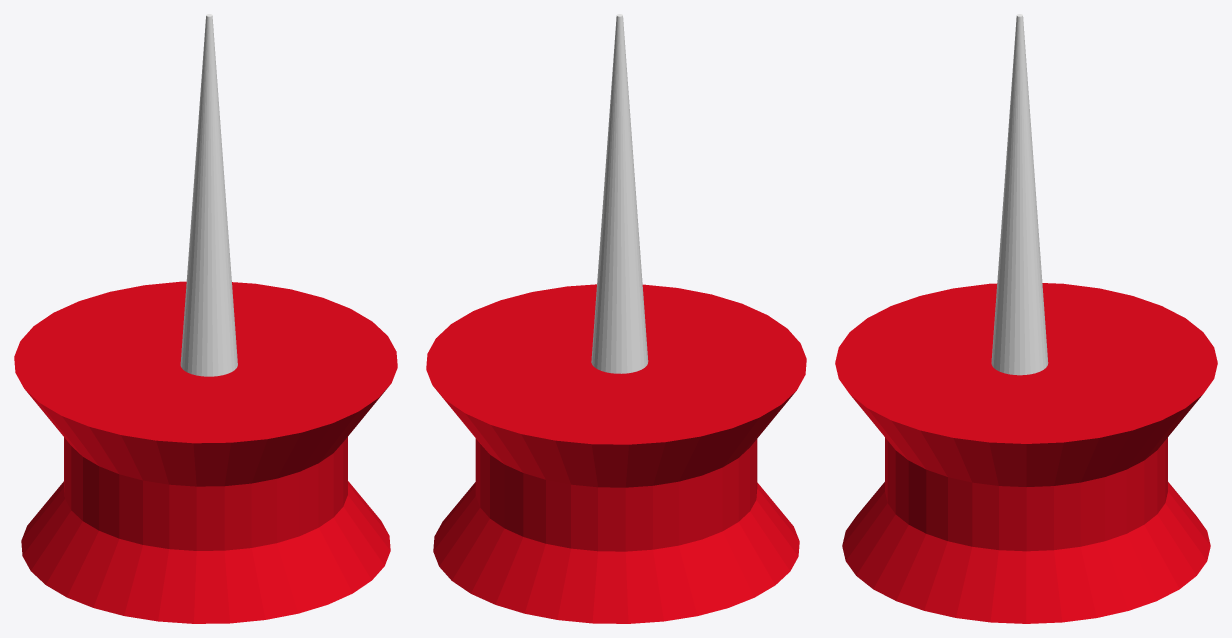
Rendered from Pin Body.fbx.
The picture shows the model from 3 angles, left to right: view 1: azimuth 30°, elevation 25°; view 2: azimuth 150°, elevation 25°; view 3: azimuth 270°, elevation 25°; orthographic projection.
Parts seen in each view (by area): view 1: Cylinder.001, Cylinder; view 2: Cylinder.001, Cylinder; view 3: Cylinder.001, Cylinder.
Part boxes in pixels (box(x1,y1,x2,y2)): Cylinder.001: box(14, 281, 397, 623); Cylinder: box(180, 14, 237, 376); Cylinder.001: box(426, 284, 806, 623); Cylinder: box(591, 14, 648, 373); Cylinder.001: box(835, 283, 1217, 623); Cylinder: box(991, 14, 1048, 375).
Size of the model in its own units: 270 by 414 by 270.
